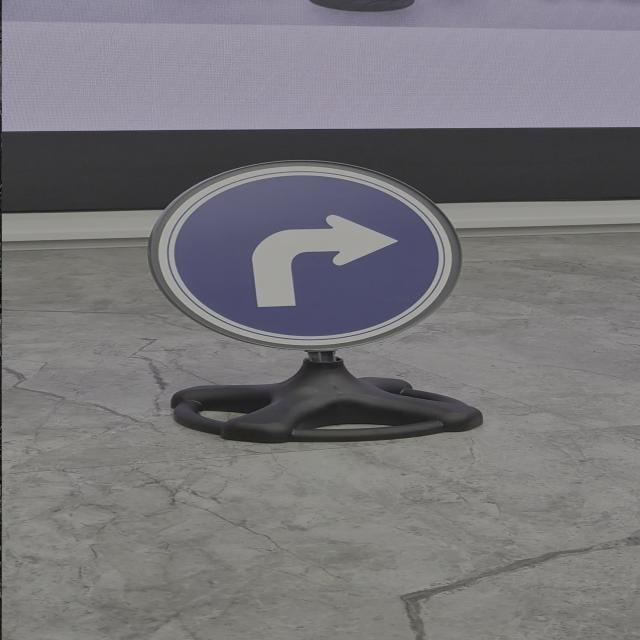right_dierection: (92, 156, 472, 358)
